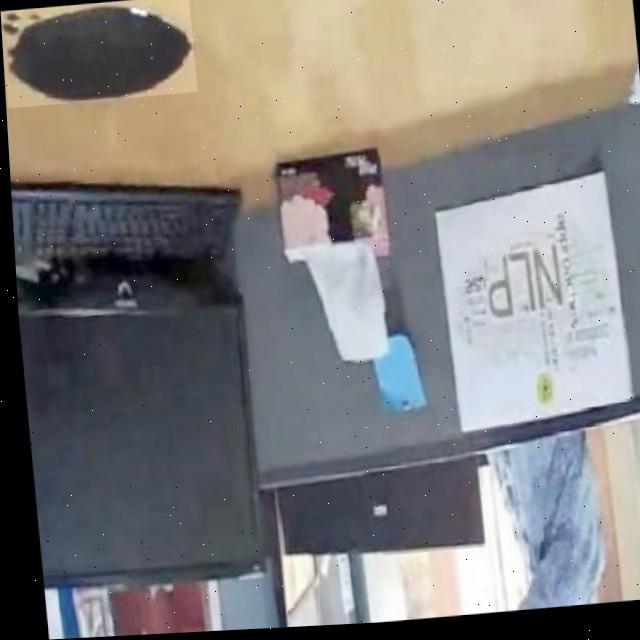spillage: (1, 3, 192, 101)
